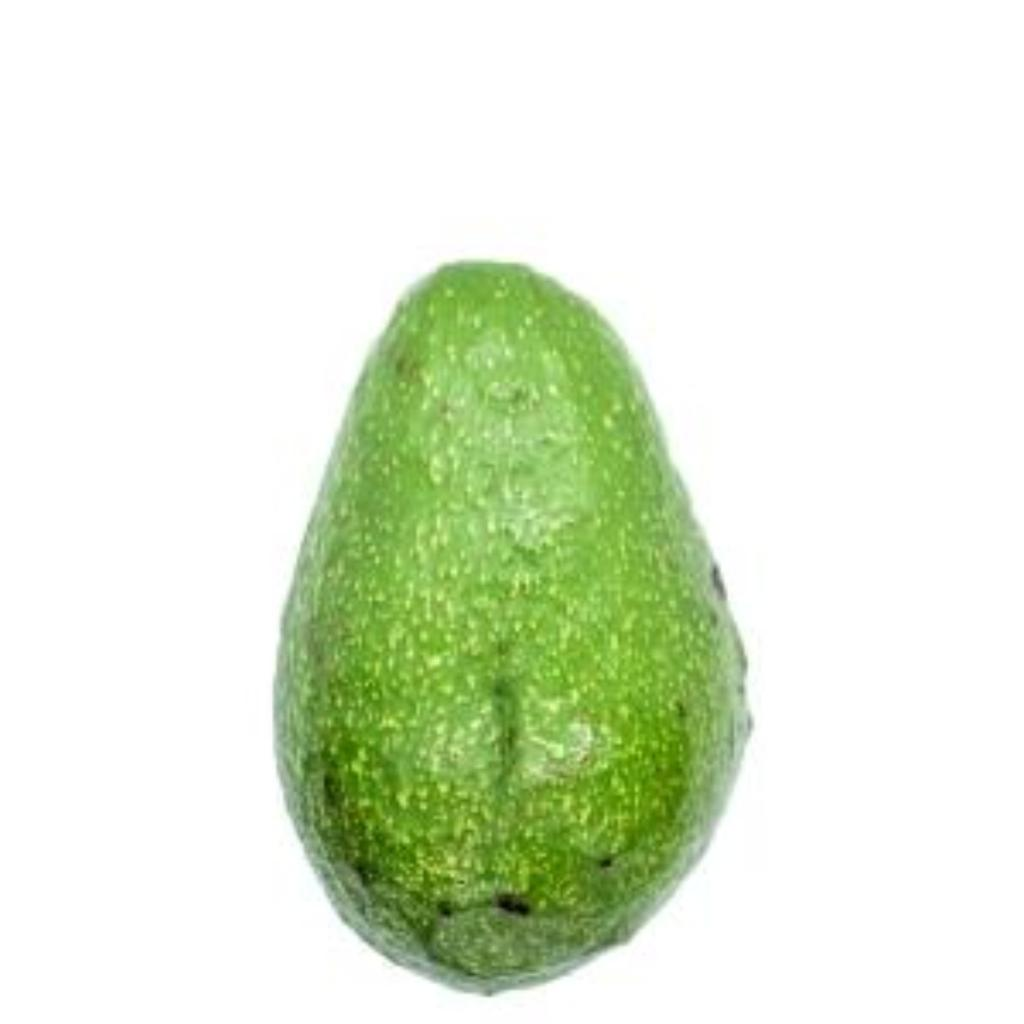cercospora_spot: (268, 218, 770, 1000)
